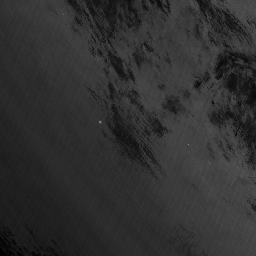Target: (97, 119, 103, 126)
